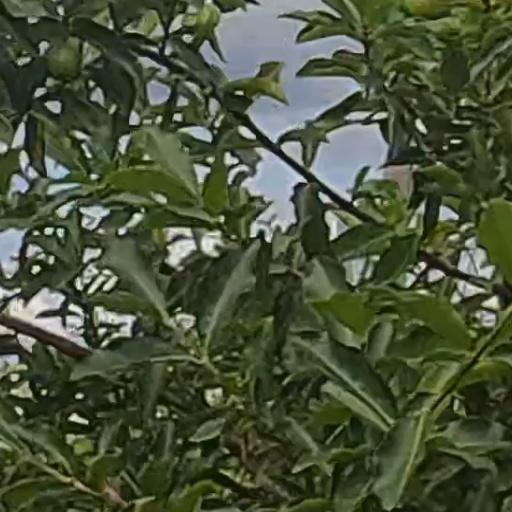acerola_verde: (47, 46, 81, 82)
